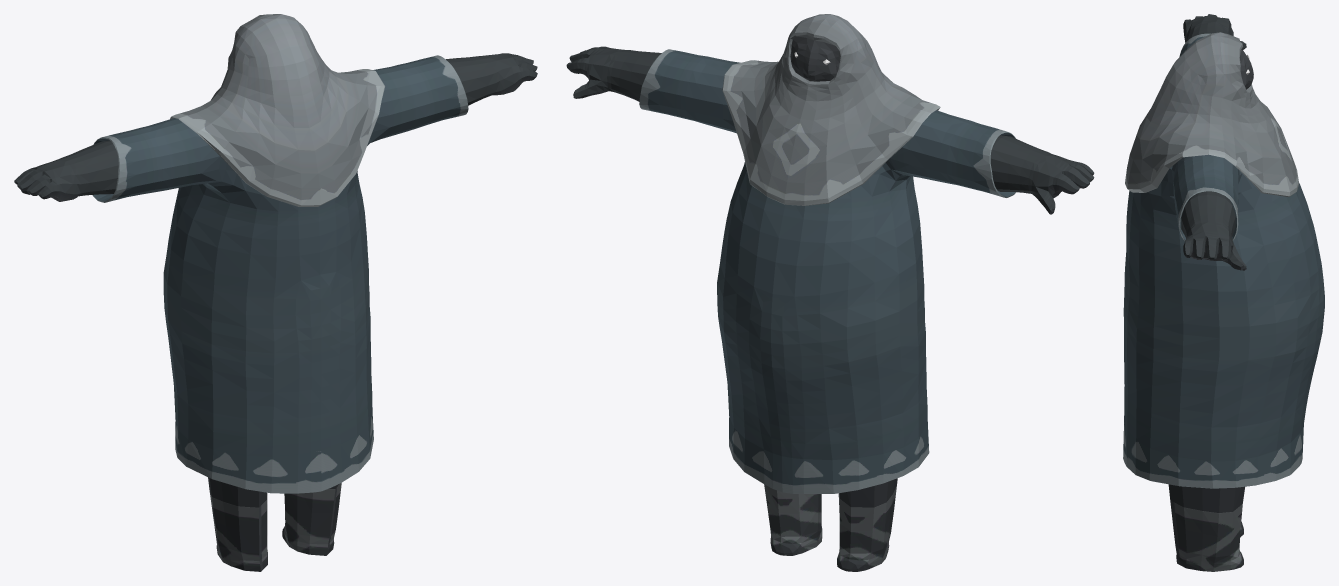
The model's file is CharSkyNPC_Body_FatLabor.glb.
The picture shows the model from 3 angles, left to right: view 1: azimuth 30°, elevation 25°; view 2: azimuth 150°, elevation 25°; view 3: azimuth 270°, elevation 25°; orthographic projection. The views are drawn at different scales.
Visible parts, largest first — view 1: CharSkyNPC_Body_FatLabor; view 2: CharSkyNPC_Body_FatLabor; view 3: CharSkyNPC_Body_FatLabor.
Part boxes in pixels (x1=…): CharSkyNPC_Body_FatLabor: x1=14, y1=14, x2=537, y2=571; CharSkyNPC_Body_FatLabor: x1=566, y1=14, x2=1094, y2=571; CharSkyNPC_Body_FatLabor: x1=1123, y1=14, x2=1324, y2=571.
Bounding box in the file's own units: 14.05 × 13.88 × 4.95.
1 material, 1 textured.
